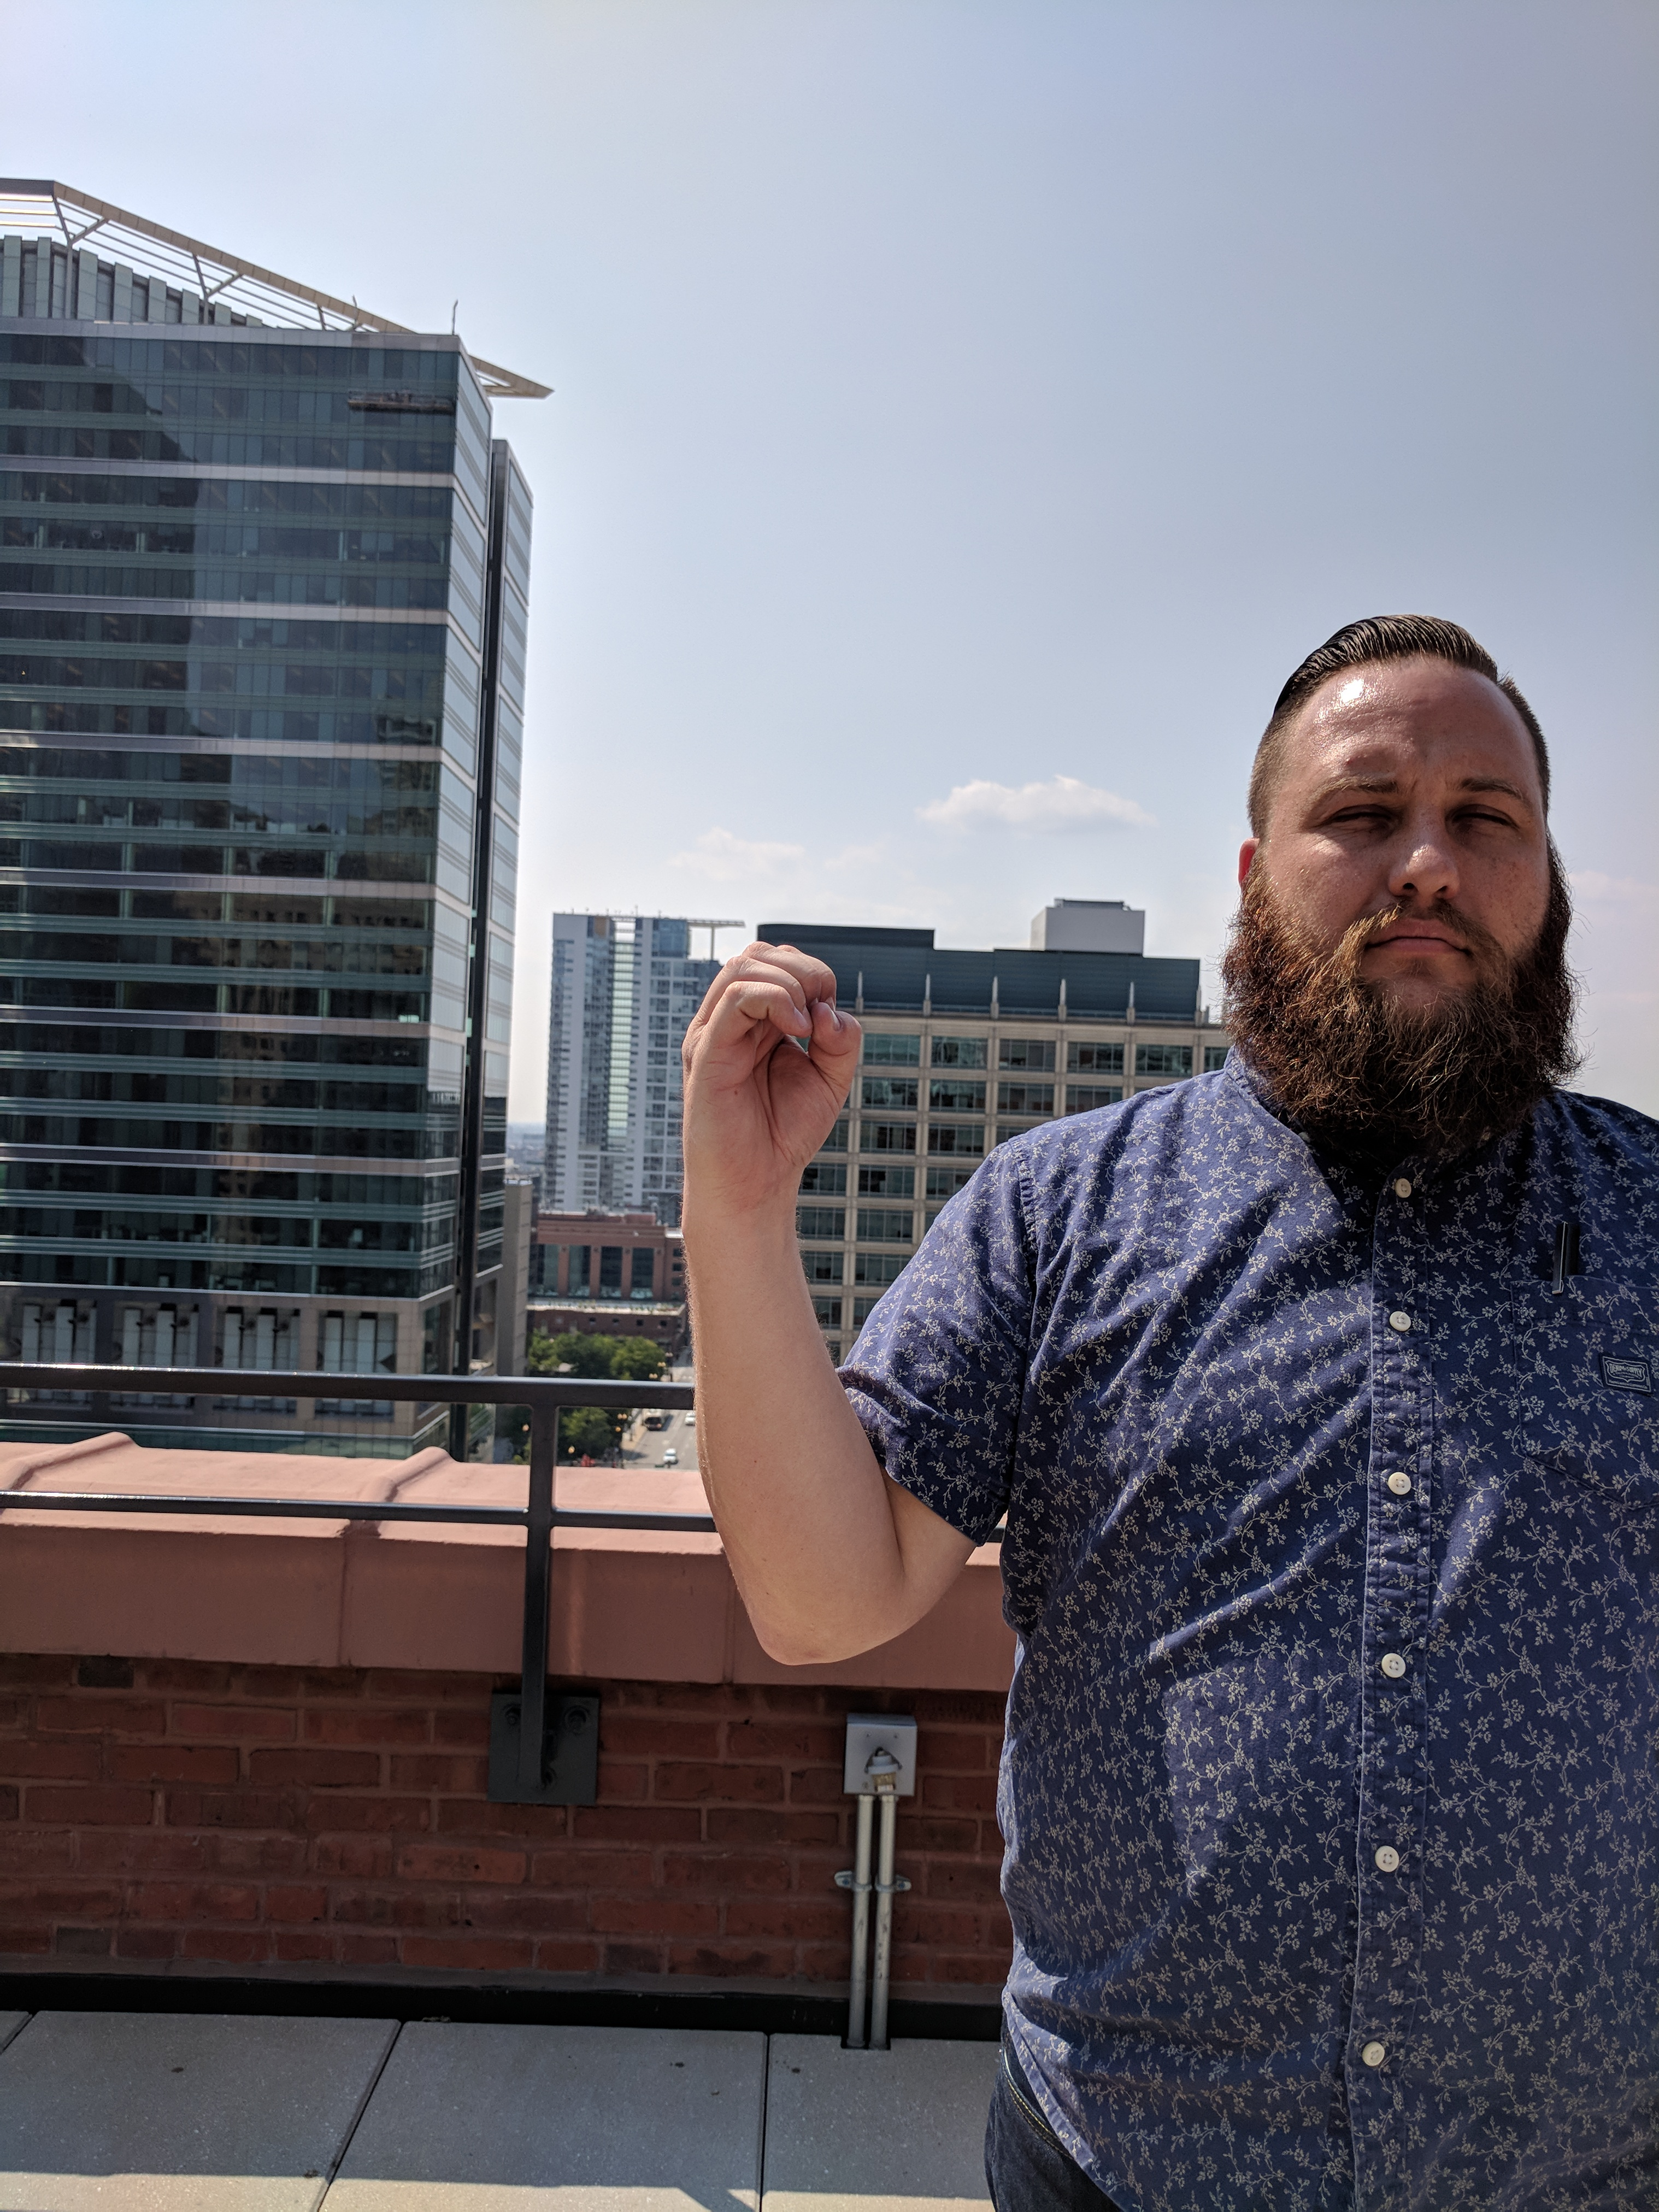o: (674, 927, 885, 1212)
